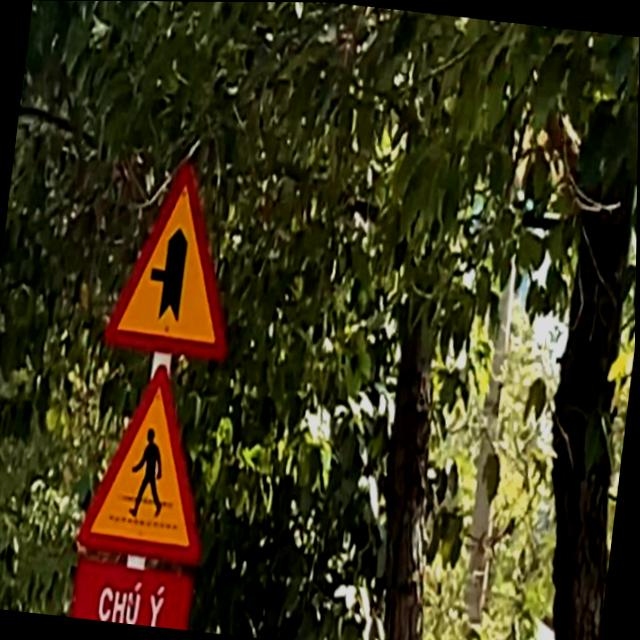Giao nhau voi duong khong uu tien ben trai: (95, 140, 254, 374)
Nguoi di bo cat ngang: (75, 352, 229, 574)
